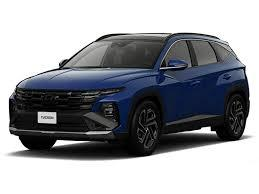hyundai: (44, 93, 63, 107)
